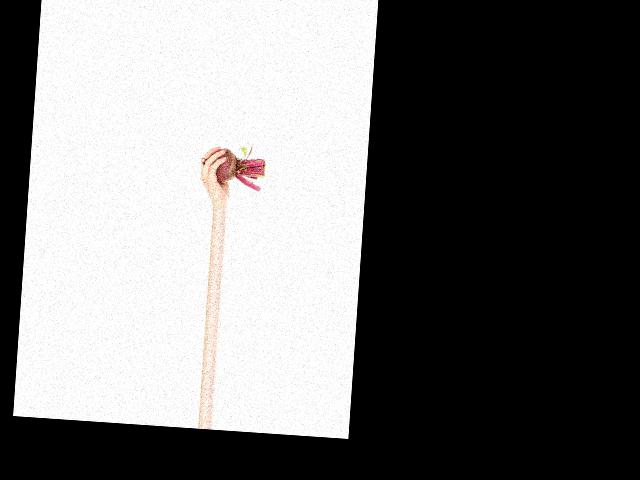beet: (200, 142, 266, 191)
